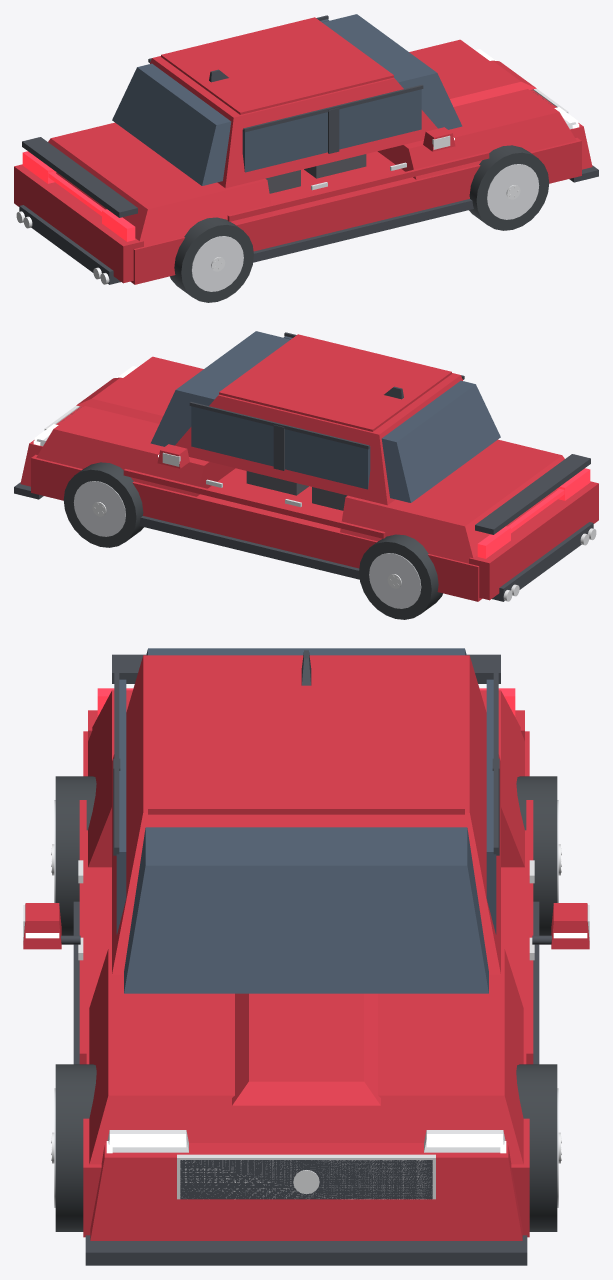
File: car.glb
The picture shows the model from 3 angles, top to bottom: view 1: azimuth 30°, elevation 25°; view 2: azimuth 150°, elevation 25°; view 3: azimuth 270°, elevation 25°; orthographic projection. The views are drawn at different scales.
Visible parts, largest first — view 1: Sedan_Red_Body_Node, Sedan_Tinted_Glass_Node, Sedan_GlossBlack_Trim_Node, Sedan_Performance_Tires_Node, Sedan_Alloy_Rims_Node, Sedan_LED_Taillights_Node, Sedan_Cabin_Interior_Node, Sedan_Chrome_Accents_Node; view 2: Sedan_Red_Body_Node, Sedan_Tinted_Glass_Node, Sedan_GlossBlack_Trim_Node, Sedan_Performance_Tires_Node, Sedan_Alloy_Rims_Node, Sedan_LED_Taillights_Node, Sedan_Cabin_Interior_Node, Sedan_Chrome_Accents_Node; view 3: Sedan_Red_Body_Node, Sedan_Tinted_Glass_Node, Sedan_GlossBlack_Trim_Node, Sedan_Performance_Tires_Node, Sedan_Chrome_Accents_Node, Sedan_DRL_Lightbars_Node, Sedan_Headlight_Lenses_Node, Sedan_Alloy_Rims_Node.
Part boxes in pixels (<box>): Sedan_Red_Body_Node: <box>14,17,592,284</box>; Sedan_Tinted_Glass_Node: <box>112,14,462,185</box>; Sedan_GlossBlack_Trim_Node: <box>19,15,598,284</box>; Sedan_Performance_Tires_Node: <box>170,145,549,302</box>; Sedan_Alloy_Rims_Node: <box>191,164,539,291</box>; Sedan_LED_Taillights_Node: <box>22,151,135,241</box>; Sedan_Cabin_Interior_Node: <box>265,154,366,193</box>; Sedan_Chrome_Accents_Node: <box>16,88,568,284</box>; Sedan_Red_Body_Node: <box>20,334,598,601</box>; Sedan_Tinted_Glass_Node: <box>150,331,500,502</box>; Sedan_GlossBlack_Trim_Node: <box>14,332,593,601</box>; Sedan_Performance_Tires_Node: <box>63,462,442,619</box>; Sedan_Alloy_Rims_Node: <box>73,481,421,608</box>; Sedan_LED_Taillights_Node: <box>477,468,590,558</box>; Sedan_Cabin_Interior_Node: <box>246,471,347,510</box>; Sedan_Chrome_Accents_Node: <box>44,405,596,601</box>; Sedan_Red_Body_Node: <box>23,655,589,1240</box>; Sedan_Tinted_Glass_Node: <box>116,648,496,993</box>; Sedan_GlossBlack_Trim_Node: <box>61,650,551,1265</box>; Sedan_Performance_Tires_Node: <box>55,776,557,1231</box>; Sedan_Chrome_Accents_Node: <box>23,844,589,1199</box>; Sedan_DRL_Lightbars_Node: <box>25,933,587,1153</box>; Sedan_Headlight_Lenses_Node: <box>107,1130,505,1152</box>; Sedan_Alloy_Rims_Node: <box>54,800,558,1207</box>.
Size of the model in its own units: 4.64 by 1.57 by 2.36.
